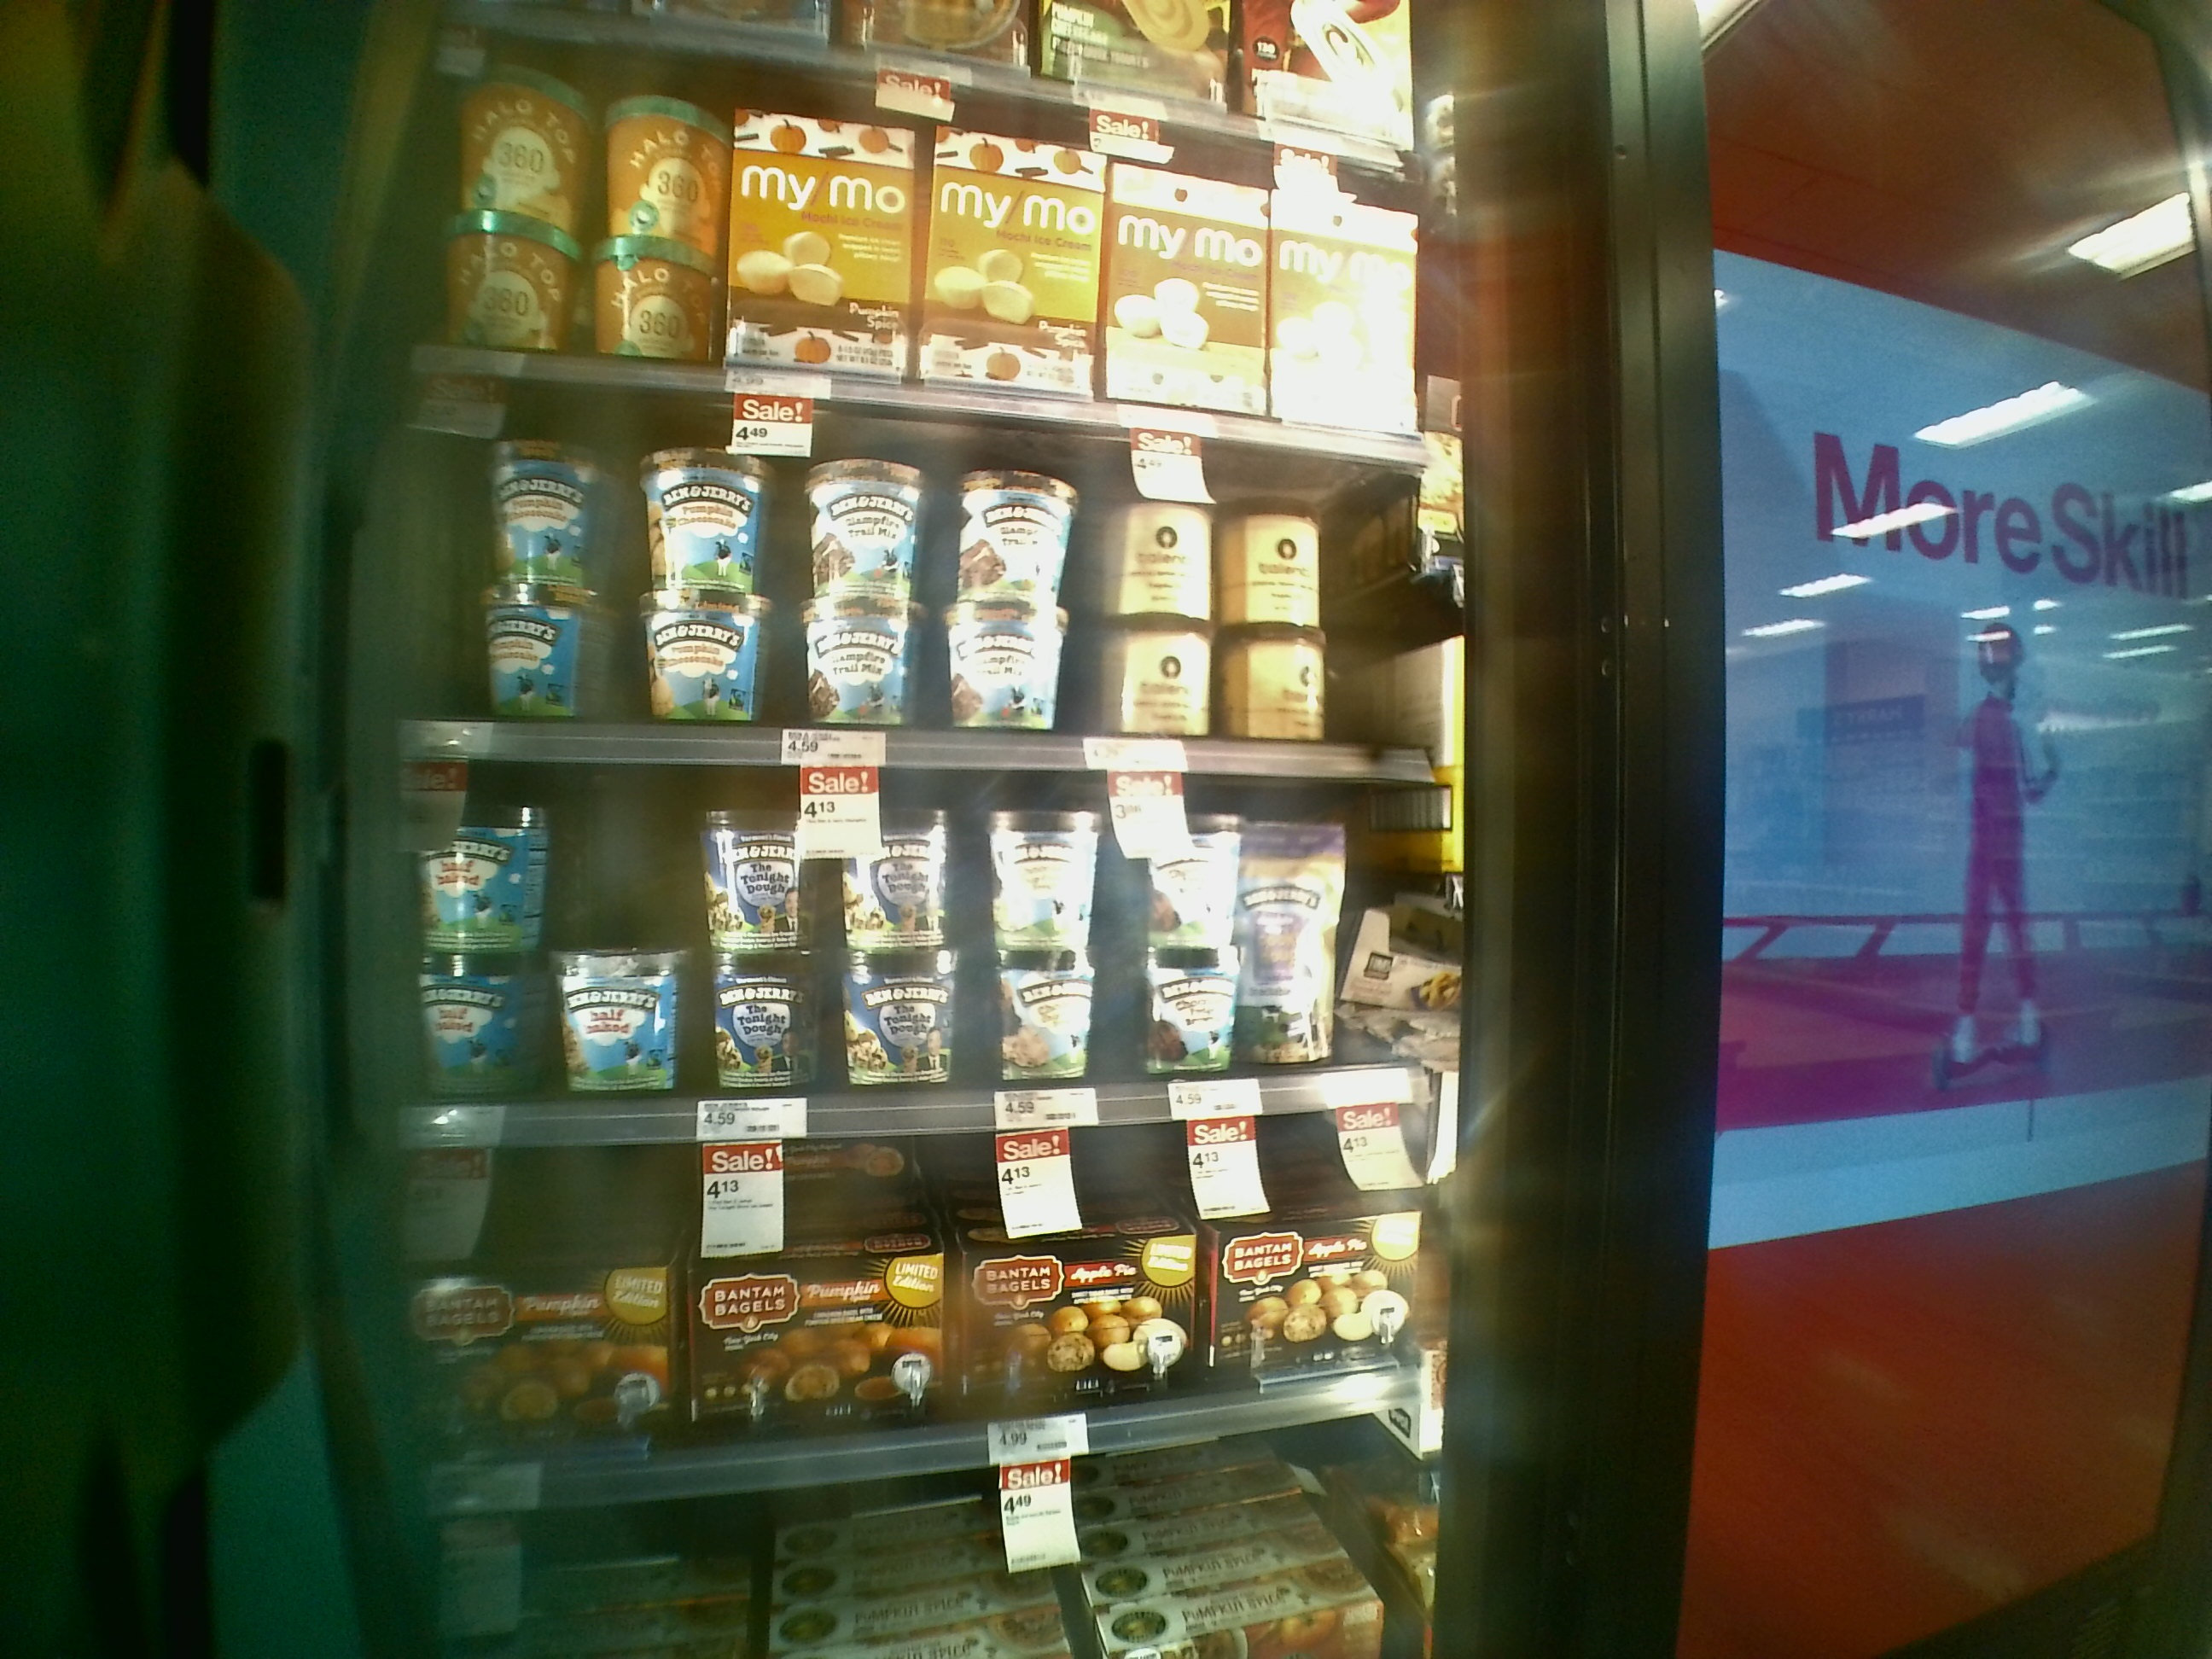shelf: (383, 382, 1454, 784), (354, 749, 1456, 1121), (350, 1127, 1454, 1466)
